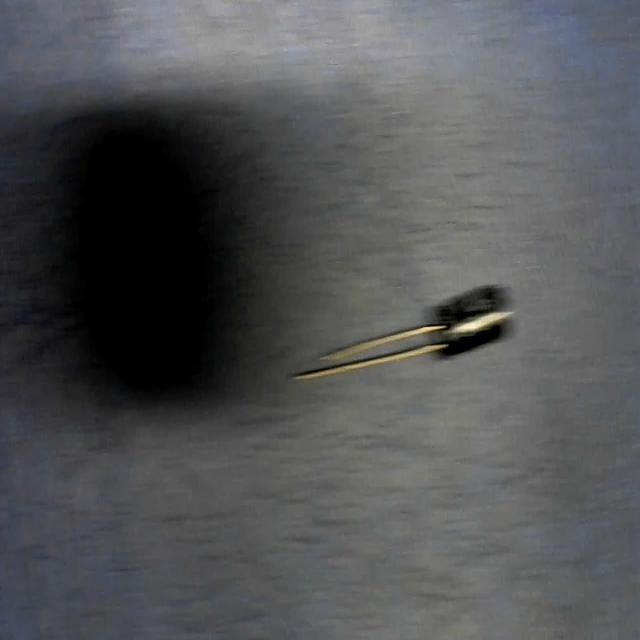capacitor: (293, 290, 507, 388)
